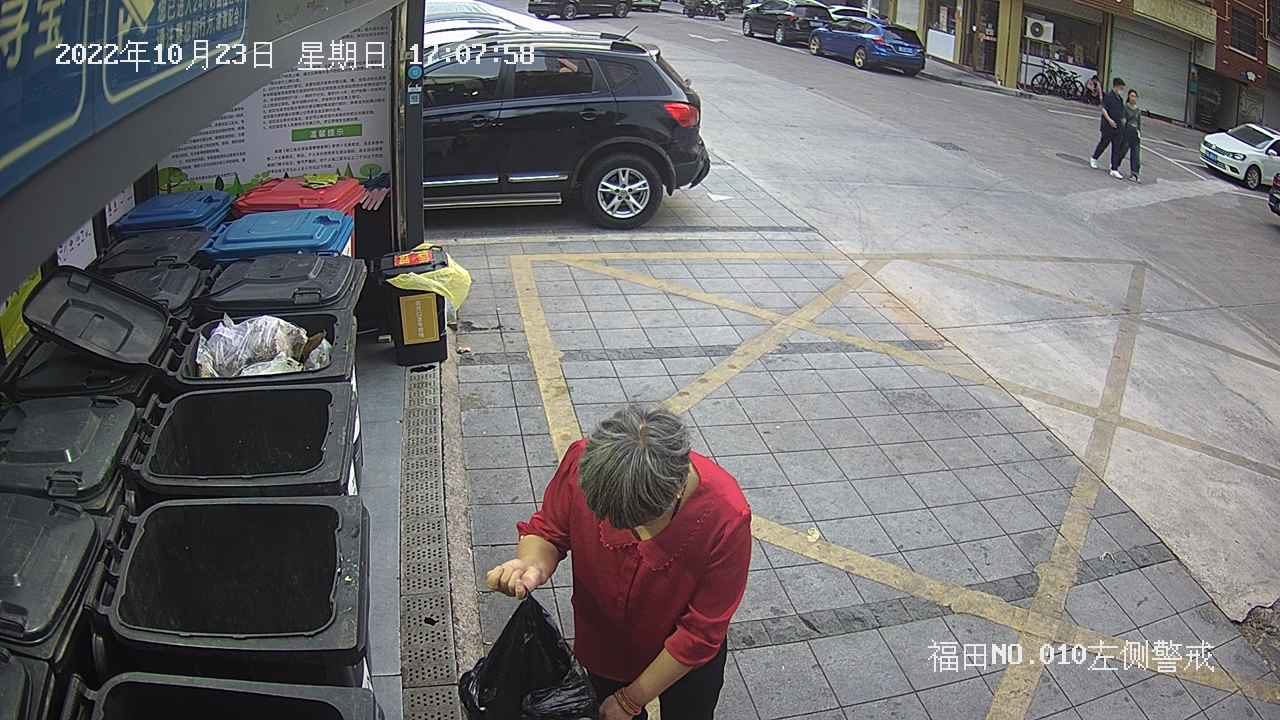garbage-bag: (456, 581, 608, 720)
person: (452, 395, 757, 720)
